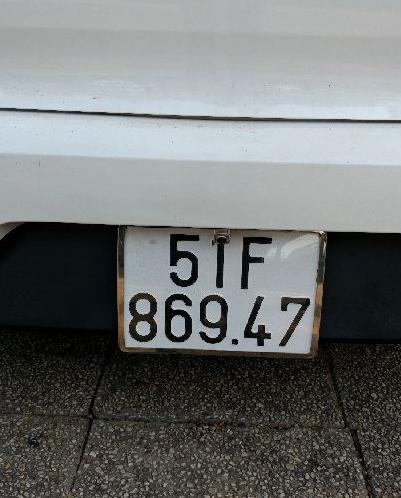Plate-iWeP: (123, 220, 317, 355)
